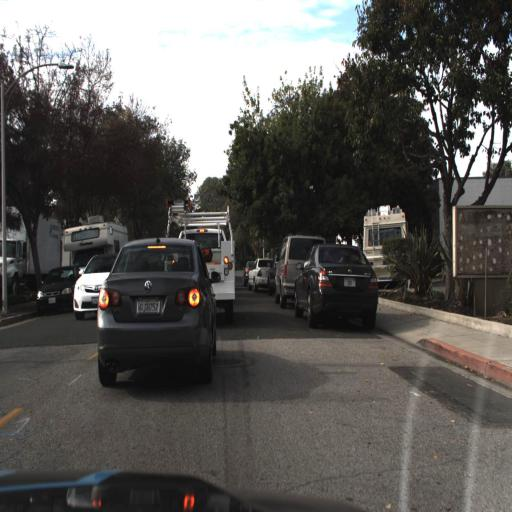car: (97, 236, 213, 383), (291, 242, 379, 330), (202, 200, 242, 333), (273, 233, 327, 311), (60, 209, 119, 271), (72, 248, 121, 321), (246, 255, 275, 294), (265, 245, 279, 301)
truck: (173, 221, 239, 319), (0, 205, 60, 300), (0, 204, 62, 294), (361, 203, 414, 299), (61, 215, 127, 275)
